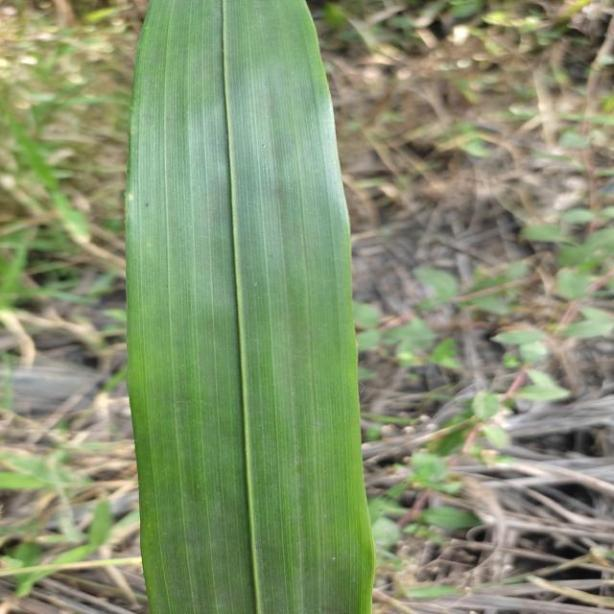Healthy: (118, 1, 375, 614)
